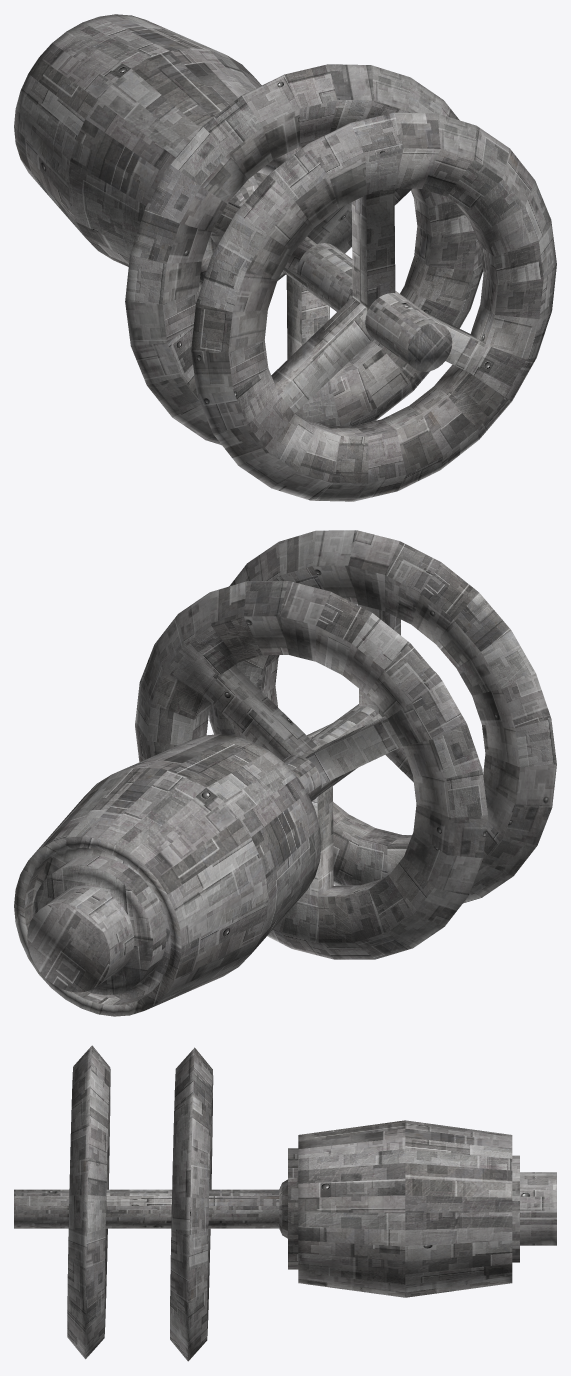
Rendered from SpaceJumper.fbx.
3 renders of one model, top to bottom at view 1: azimuth 30°, elevation 25°; view 2: azimuth 150°, elevation 25°; view 3: azimuth 270°, elevation 25°, orthographic. The views are drawn at different scales.
Visible parts, largest first — view 1: HiperSaltador Espacial; view 2: HiperSaltador Espacial; view 3: HiperSaltador Espacial.
Boxes of the visible parts, x1,y1,x2,y2 form: HiperSaltador Espacial: [14, 14, 556, 501]; HiperSaltador Espacial: [14, 530, 556, 1016]; HiperSaltador Espacial: [14, 1045, 556, 1361].
Bounding box in the file's own units: 178 × 176 × 304.
